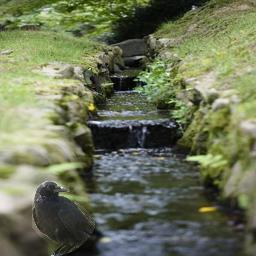Crow: (32, 181, 95, 256)
Cuckoo: (83, 67, 112, 105)
